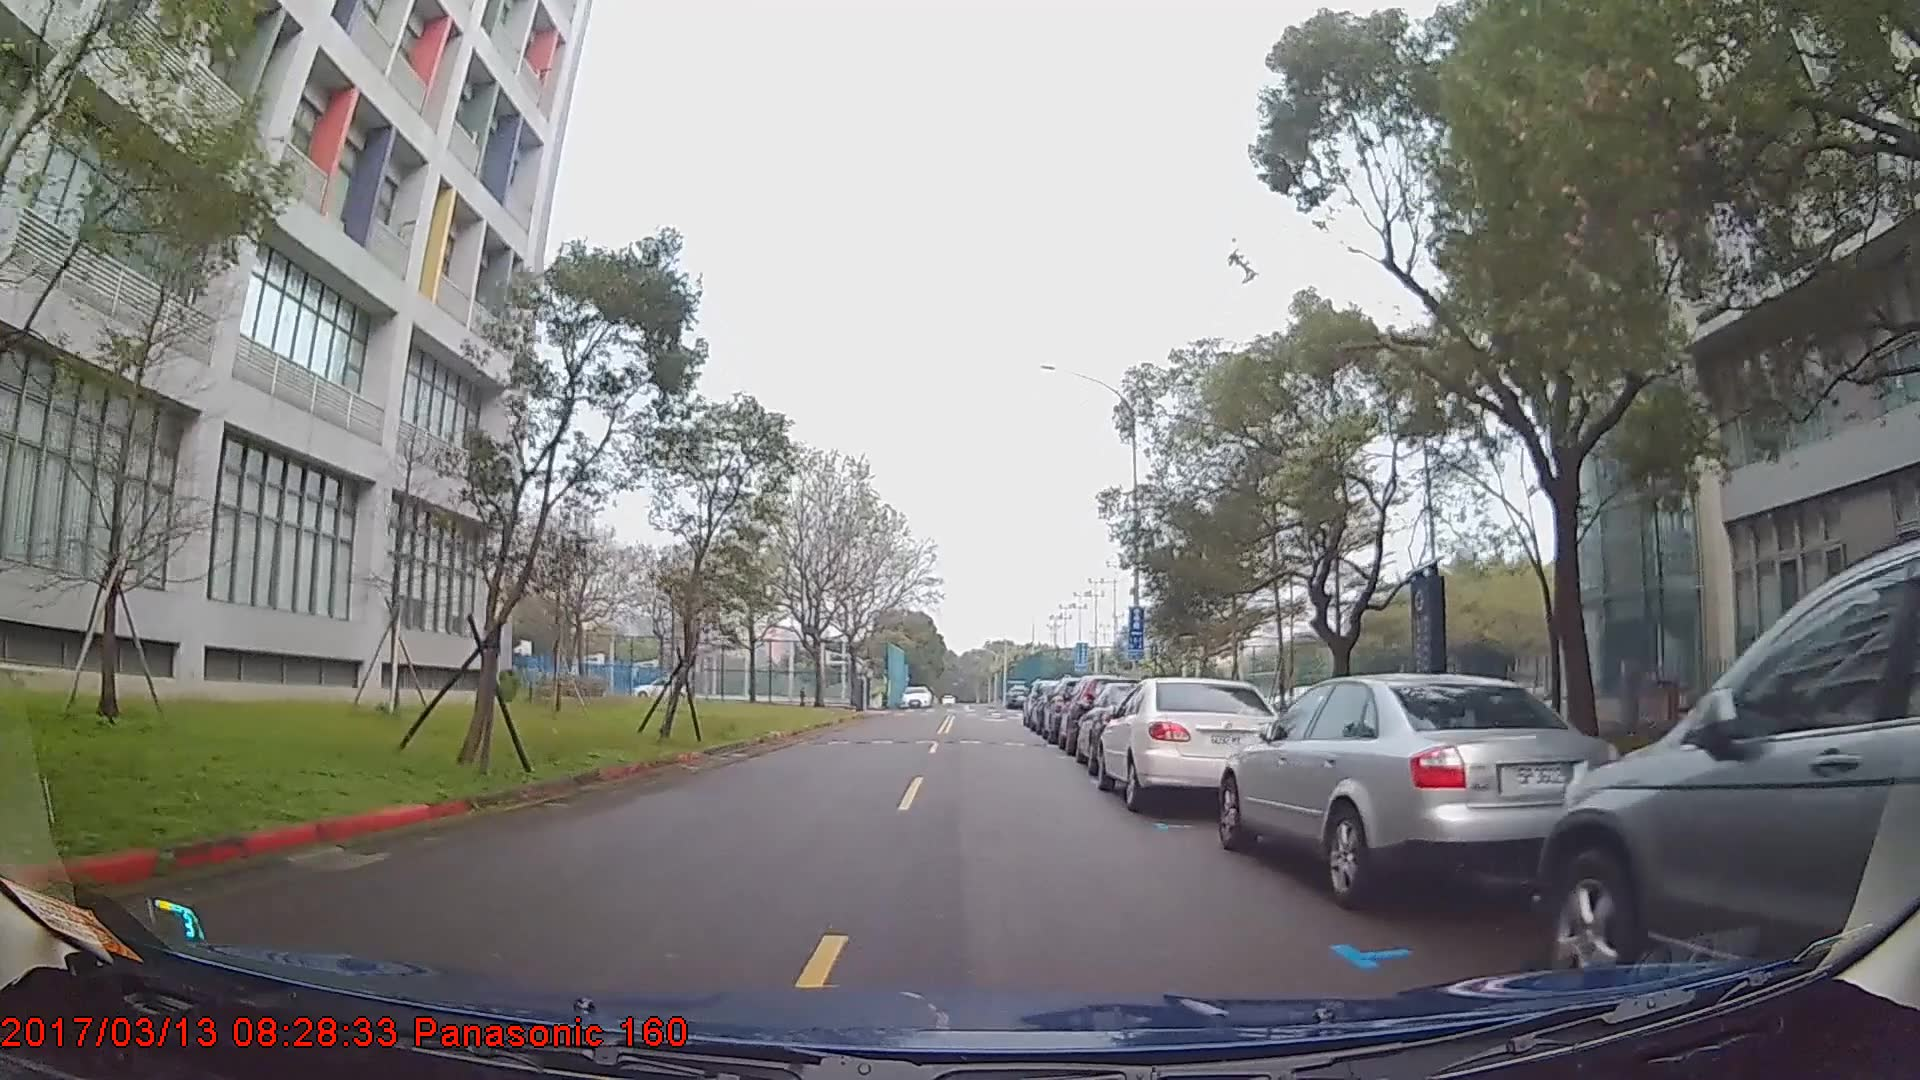vehicle: (1538, 534, 1920, 1023), (1215, 673, 1621, 911), (1095, 675, 1294, 815), (899, 684, 931, 705)
